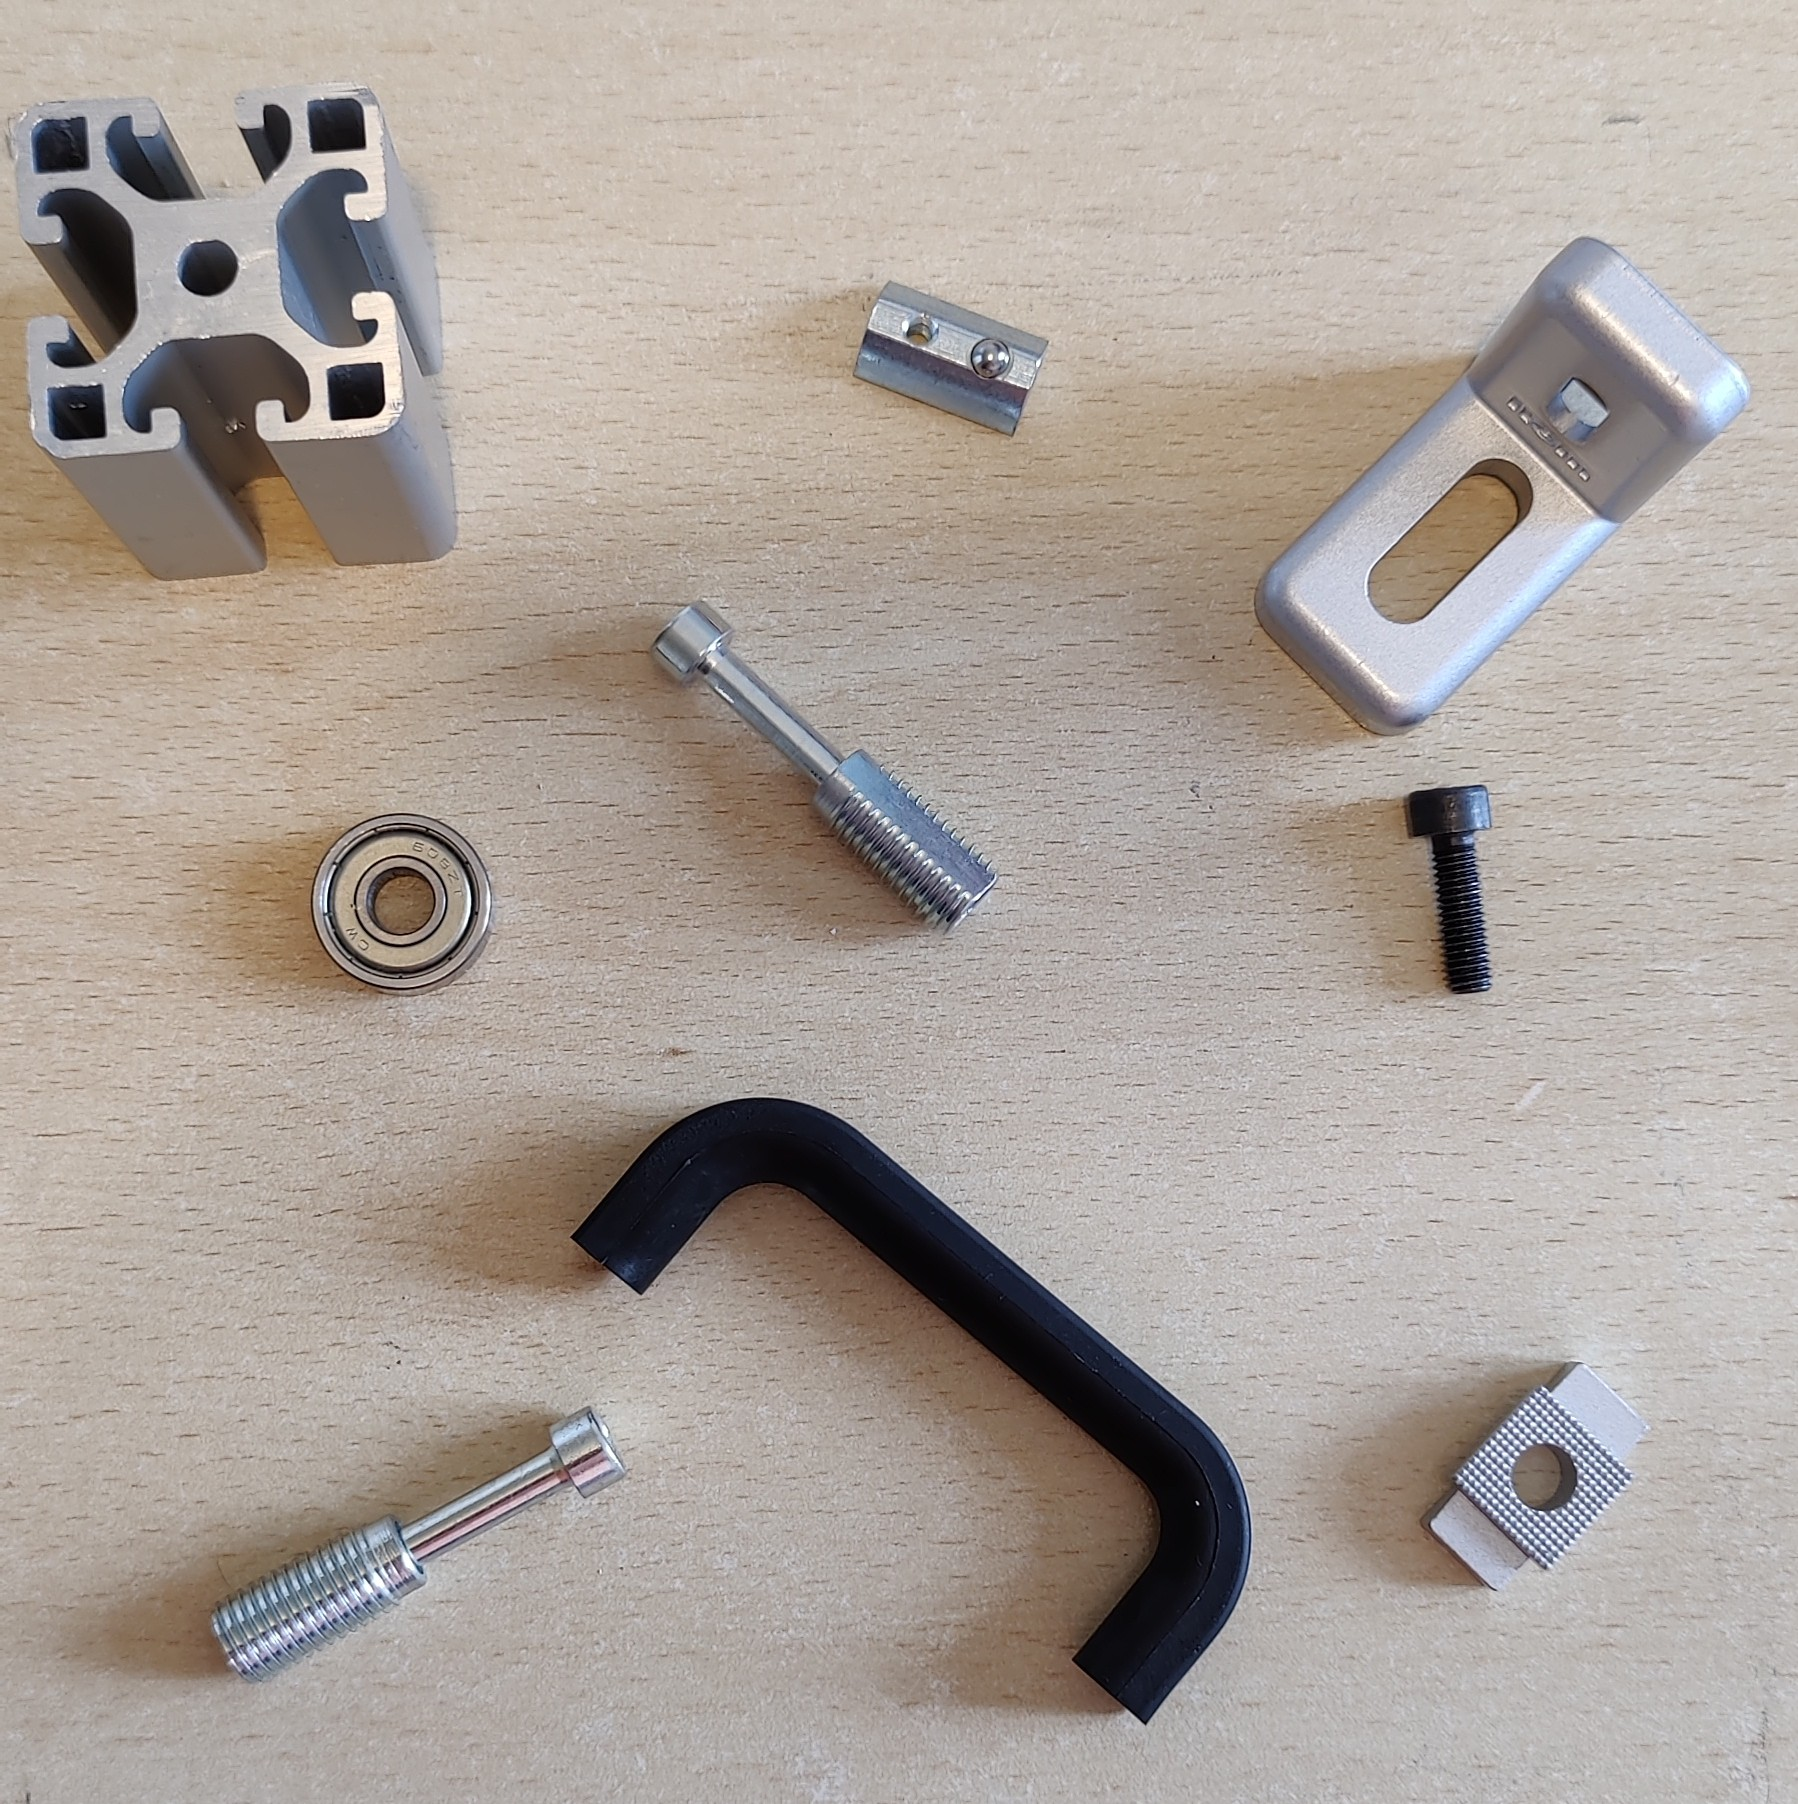Aluminium Extension: (7, 84, 461, 583)
Ball Bearing: (306, 810, 496, 999)
Multiwinkel: (1251, 234, 1754, 737)
Pull Handle: (566, 1095, 1255, 1730)
Shoulder Socket Head Cap Screw: (645, 596, 999, 942), (207, 1401, 629, 1690)
Socket Head Cap Screw: (1400, 782, 1498, 996)
T Nut Square: (1418, 1356, 1651, 1593)
T Spring Nut: (850, 277, 1052, 439)
